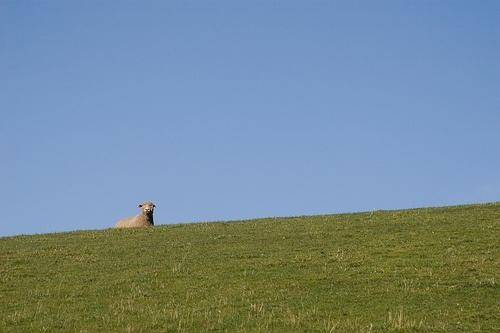sheep: (116, 202, 157, 230)
